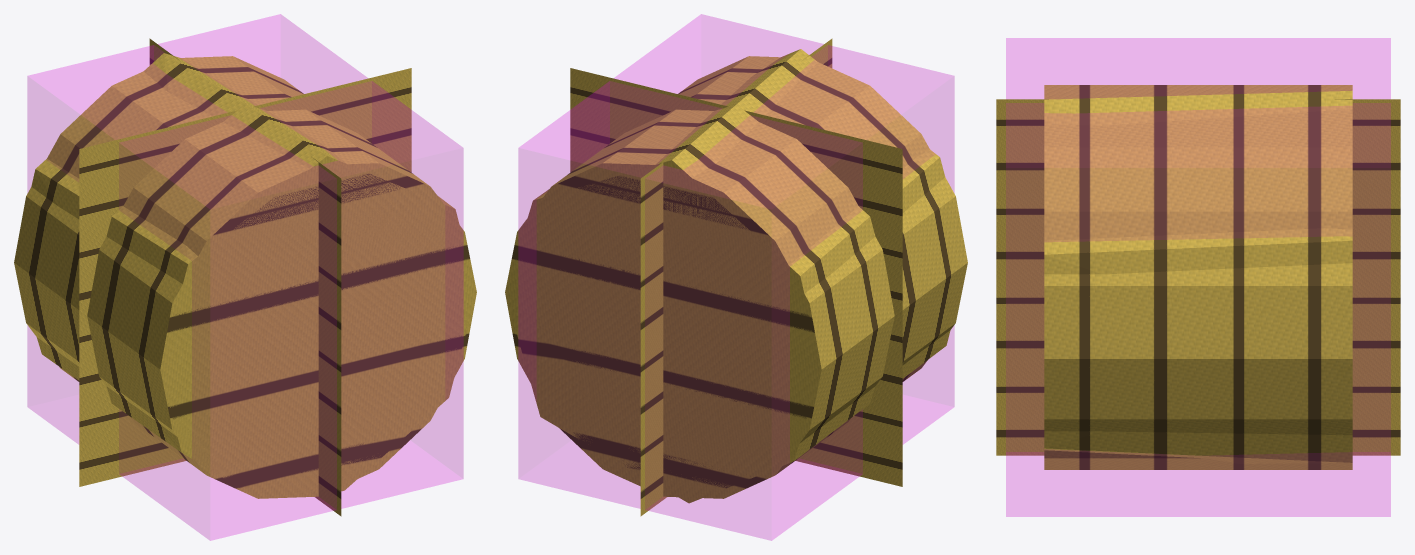
File: haybale_round_gold.dae
3 views of the same model, side by side, from view 1: azimuth 30°, elevation 25°; view 2: azimuth 150°, elevation 25°; view 3: azimuth 270°, elevation 25° (orthographic). The views are drawn at different scales.
Parts seen in each view (by area): view 1: Colmesh_round-1, haybale_round_gold_a800, haybale_round_gold_a200, haybale_round_gold_a50; view 2: Colmesh_round-1, haybale_round_gold_a800, haybale_round_gold_a200, haybale_round_gold_a50; view 3: Colmesh_round-1, haybale_round_gold_a800, haybale_round_gold_a50, haybale_round_gold_a200.
Part boxes in pixels (left/top/right/bottom): Colmesh_round-1: left=27, top=14, right=463, bottom=540; haybale_round_gold_a800: left=14, top=56, right=476, bottom=498; haybale_round_gold_a200: left=31, top=53, right=476, bottom=498; haybale_round_gold_a50: left=79, top=38, right=411, bottom=516; Colmesh_round-1: left=518, top=14, right=954, bottom=540; haybale_round_gold_a800: left=505, top=56, right=967, bottom=498; haybale_round_gold_a200: left=505, top=49, right=950, bottom=503; haybale_round_gold_a50: left=570, top=38, right=902, bottom=516; Colmesh_round-1: left=1006, top=38, right=1390, bottom=516; haybale_round_gold_a800: left=1044, top=85, right=1352, bottom=469; haybale_round_gold_a50: left=996, top=99, right=1400, bottom=455; haybale_round_gold_a200: left=1044, top=90, right=1352, bottom=463.
Size of the model in its own units: 1.58 by 1.58 by 1.55.
Materials: 2 (1 with a texture image).
